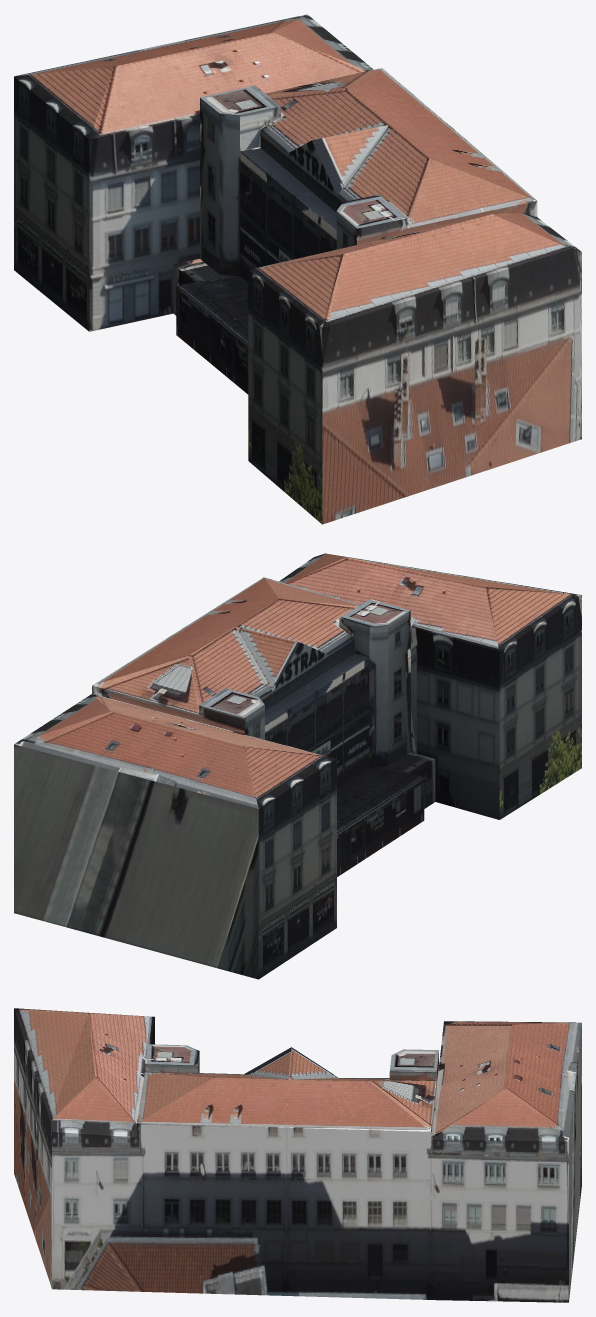
3 views of the same model, one above another, from view 1: azimuth 30°, elevation 25°; view 2: azimuth 150°, elevation 25°; view 3: azimuth 270°, elevation 25° (orthographic). The views are drawn at different scales.
Visible parts, largest first — view 1: Z_UP; view 2: Z_UP; view 3: Z_UP.
Part boxes in pixels (box(x1,y1,x2,y2)): Z_UP: box(14, 14, 581, 524); Z_UP: box(14, 553, 581, 979); Z_UP: box(14, 1008, 581, 1302).
Bounding box in the file's own units: 24.68 × 16.89 × 45.81.
Materials: 2 (1 with a texture image).
